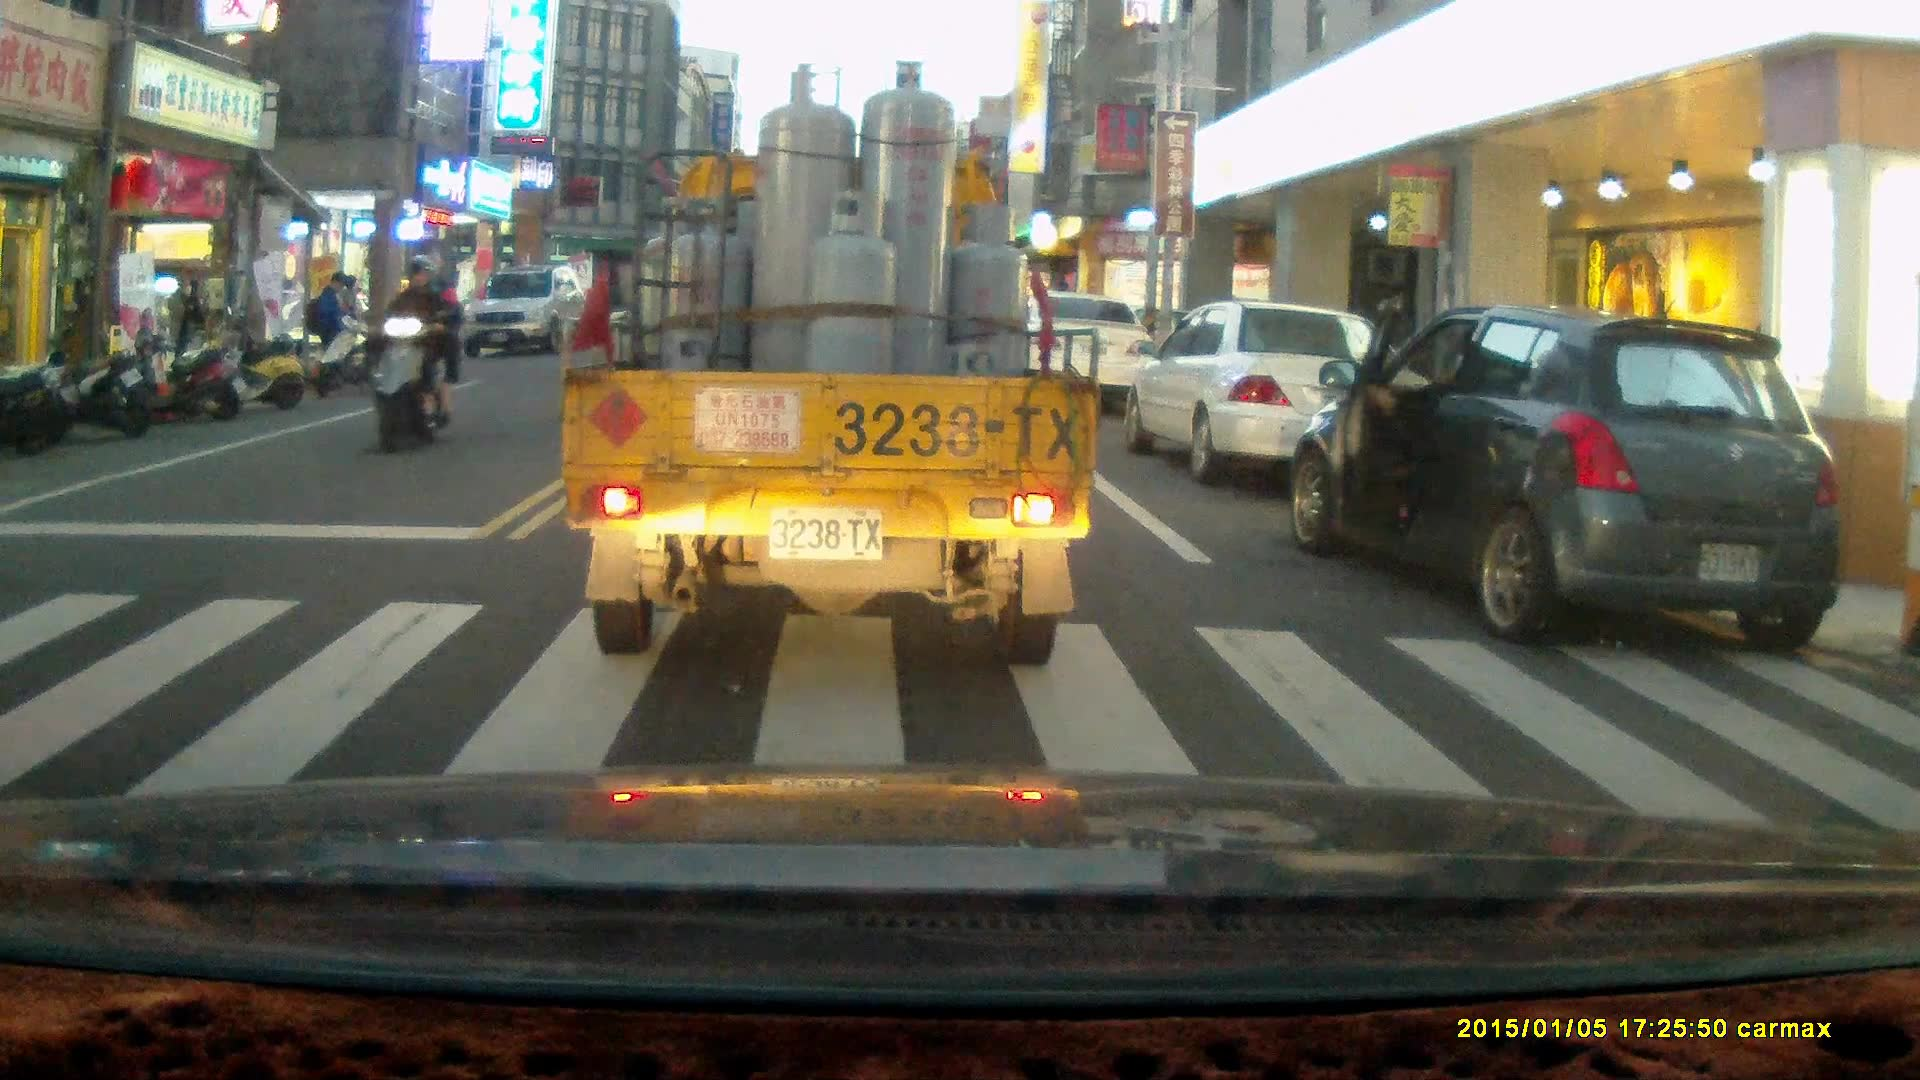pedestrian: (312, 272, 349, 389), (162, 280, 198, 391)
rider: (368, 254, 463, 455)
vehicle: (557, 60, 1085, 664), (1287, 310, 1848, 663), (1123, 304, 1418, 487), (1026, 295, 1160, 413), (460, 269, 588, 364)
